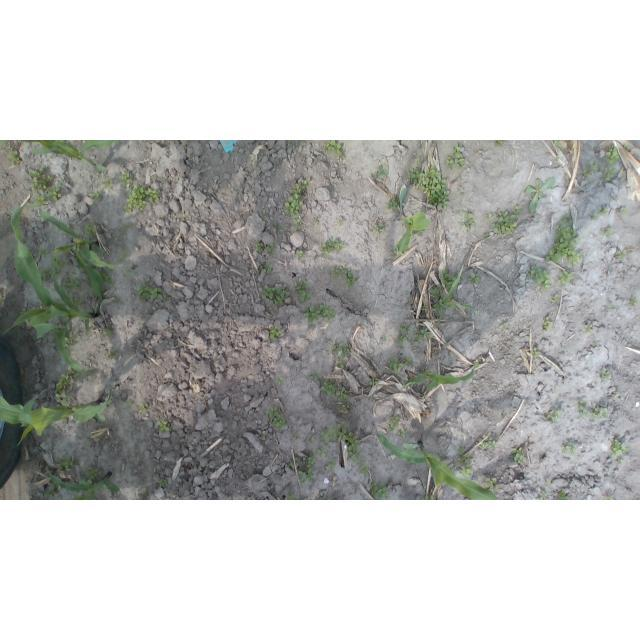Maize: (5, 201, 96, 378), (375, 429, 500, 500), (38, 211, 123, 309), (0, 388, 112, 446), (18, 141, 121, 174), (392, 184, 435, 257), (433, 267, 478, 326), (404, 362, 479, 397), (48, 470, 120, 500)
Weeds: (545, 216, 584, 268), (407, 165, 450, 211), (26, 167, 53, 206), (525, 179, 555, 213), (38, 252, 67, 284), (294, 451, 316, 485), (121, 186, 147, 213), (341, 428, 361, 463), (492, 212, 520, 237), (304, 304, 337, 325), (528, 265, 553, 292), (263, 283, 289, 307), (265, 406, 288, 433), (331, 266, 357, 289), (136, 283, 167, 301), (455, 447, 473, 477), (447, 144, 465, 171), (290, 177, 311, 200), (320, 238, 345, 257), (320, 423, 343, 443), (294, 281, 312, 303), (57, 455, 79, 473), (284, 196, 303, 216), (440, 267, 457, 289), (63, 274, 82, 293), (609, 438, 627, 458), (332, 340, 351, 358), (55, 373, 73, 391), (371, 483, 390, 500), (604, 146, 621, 165), (459, 211, 476, 230), (324, 140, 344, 156), (118, 172, 132, 193), (387, 356, 404, 373), (320, 379, 336, 397), (47, 183, 62, 201), (583, 161, 598, 179), (5, 146, 19, 165), (398, 324, 411, 344), (84, 467, 104, 480), (558, 270, 574, 285), (484, 477, 500, 492), (510, 447, 524, 464), (413, 328, 431, 341), (577, 400, 590, 418), (145, 187, 160, 202), (44, 485, 59, 500), (387, 415, 399, 433), (55, 393, 69, 408), (101, 273, 115, 288), (430, 286, 443, 302), (589, 408, 607, 419), (386, 197, 400, 211), (337, 387, 350, 402), (561, 444, 576, 457), (156, 420, 172, 432), (293, 212, 303, 229), (480, 441, 497, 451), (376, 164, 389, 177), (604, 168, 617, 181), (100, 176, 112, 190), (68, 365, 80, 379), (88, 220, 98, 236), (373, 223, 385, 236), (557, 488, 570, 500), (269, 326, 280, 340), (547, 411, 561, 422), (64, 332, 73, 349), (359, 464, 370, 477), (91, 192, 102, 205), (543, 317, 553, 331), (104, 351, 119, 360), (338, 402, 350, 412), (36, 247, 48, 257), (71, 296, 81, 308), (310, 370, 321, 380), (119, 250, 129, 261), (617, 249, 627, 260), (471, 272, 480, 284), (600, 372, 612, 381), (532, 348, 540, 361), (317, 447, 327, 457), (605, 227, 615, 237), (255, 242, 264, 253), (328, 460, 337, 471), (103, 330, 114, 339), (266, 261, 273, 275), (284, 492, 296, 500), (268, 243, 277, 253), (139, 404, 149, 413), (513, 206, 523, 215), (78, 478, 92, 484), (124, 267, 133, 276), (553, 140, 562, 149), (619, 207, 628, 216), (600, 207, 609, 216), (584, 324, 593, 333), (405, 356, 413, 366), (539, 492, 549, 500), (337, 360, 345, 369), (160, 479, 169, 487), (20, 307, 29, 315), (400, 427, 407, 437), (630, 298, 638, 306), (274, 220, 281, 229), (297, 251, 304, 260), (276, 377, 285, 384), (485, 215, 494, 222), (494, 141, 503, 148), (501, 323, 509, 330), (425, 495, 435, 500), (259, 211, 266, 218), (422, 305, 429, 312), (369, 381, 376, 388), (590, 214, 598, 220), (551, 294, 557, 302), (414, 158, 420, 165), (417, 230, 423, 237), (0, 141, 6, 148), (338, 220, 345, 226), (607, 303, 613, 309), (143, 491, 150, 496), (312, 437, 317, 444), (483, 233, 490, 238), (606, 496, 613, 501), (53, 328, 60, 333), (381, 336, 387, 341), (123, 224, 129, 229), (615, 392, 621, 397), (314, 220, 319, 225), (593, 340, 598, 345), (460, 192, 464, 197), (618, 459, 622, 464), (546, 480, 550, 485), (371, 173, 375, 177), (112, 384, 116, 388), (624, 276, 628, 279), (300, 140, 305, 142)
